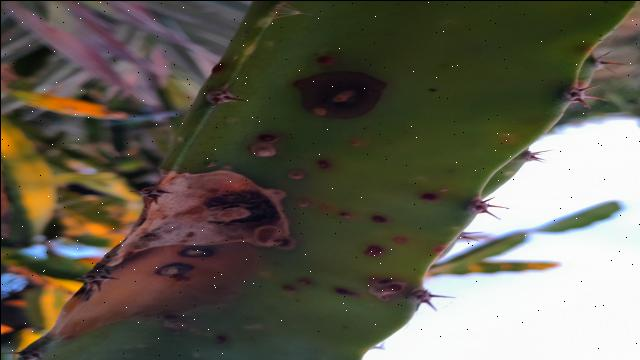stemcanker: (22, 165, 298, 352), (287, 67, 396, 127), (279, 180, 320, 216), (348, 234, 395, 264), (243, 132, 289, 161)
